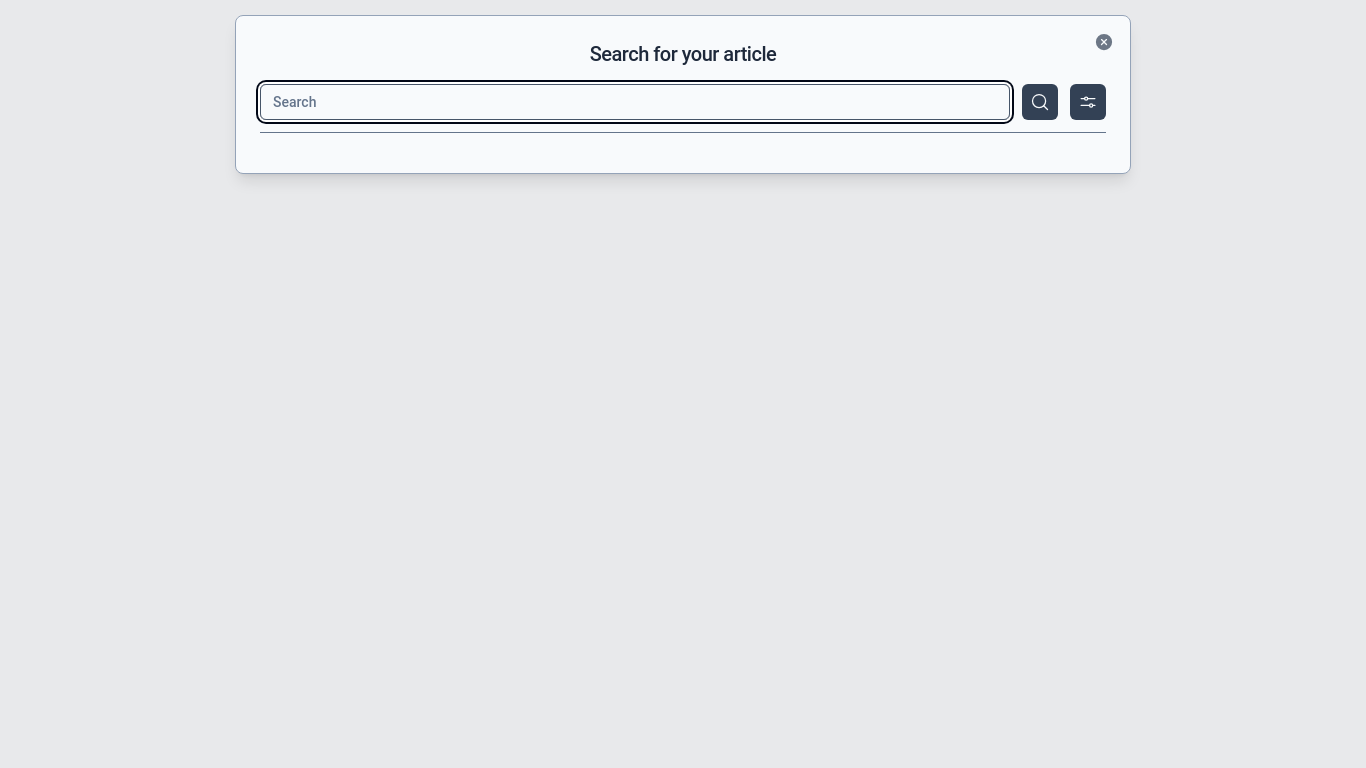
it: Modal Search › toggles the filters when the filter button is clicked
Click the button with test id "open_close_filters": (1088, 102) [1070,84,1106,120]
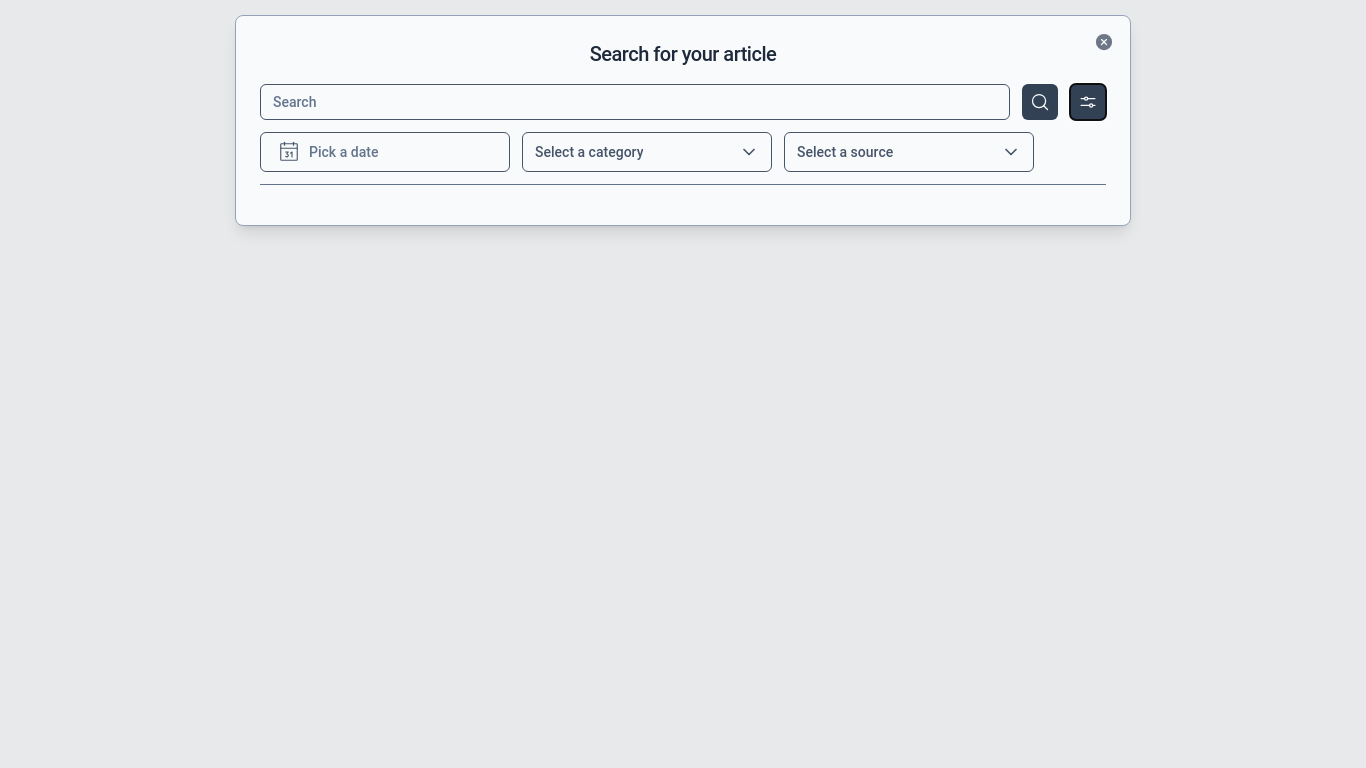
Result: the element with test id "filters" is shown at [260,132,1106,172]
Click the button with test id "open_close_filters": (1088, 102) [1070,84,1106,120]
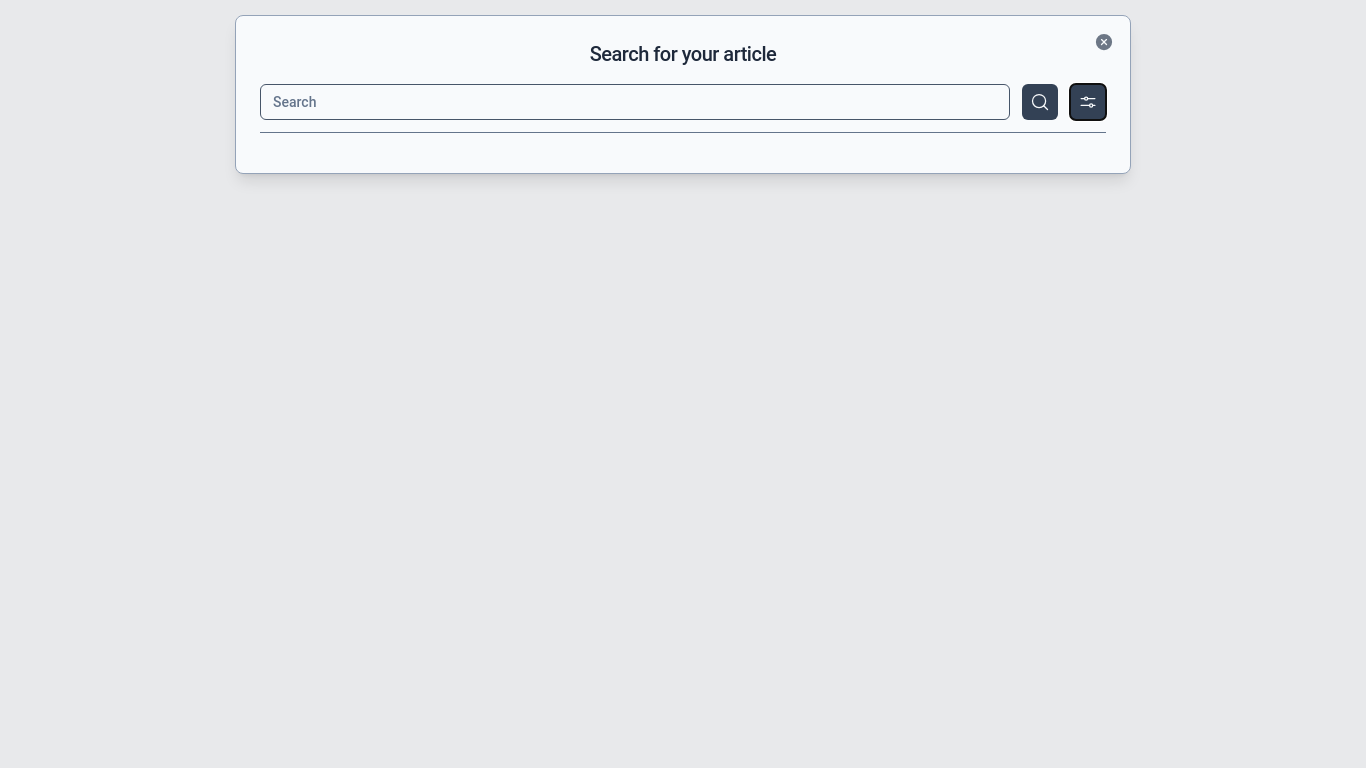
Result: the element with test id "filters" is gone
